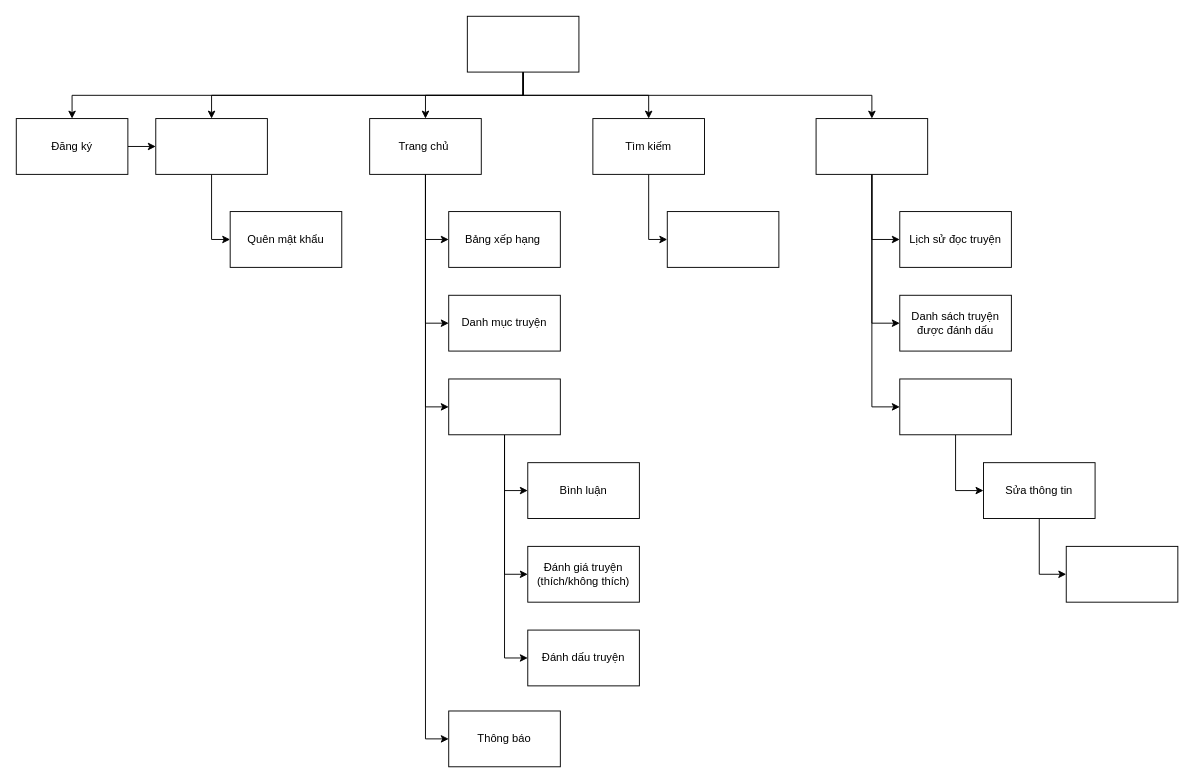
The diagram is 1194 pixels wide and 783 high, and some of its shapes have lost their labels. The box of each missing label's shape, as (x1, y1, x2, y2) in pixels:
Bộ lọc: (666, 211, 779, 267)
Thông tin: (899, 378, 1011, 435)
Tài khoản: (815, 118, 928, 174)
Web truyện: (466, 15, 579, 72)
Đăng nhập: (155, 118, 267, 174)
Đọc truyện: (448, 378, 560, 435)
Đổi mật khẩu: (1065, 545, 1178, 602)
